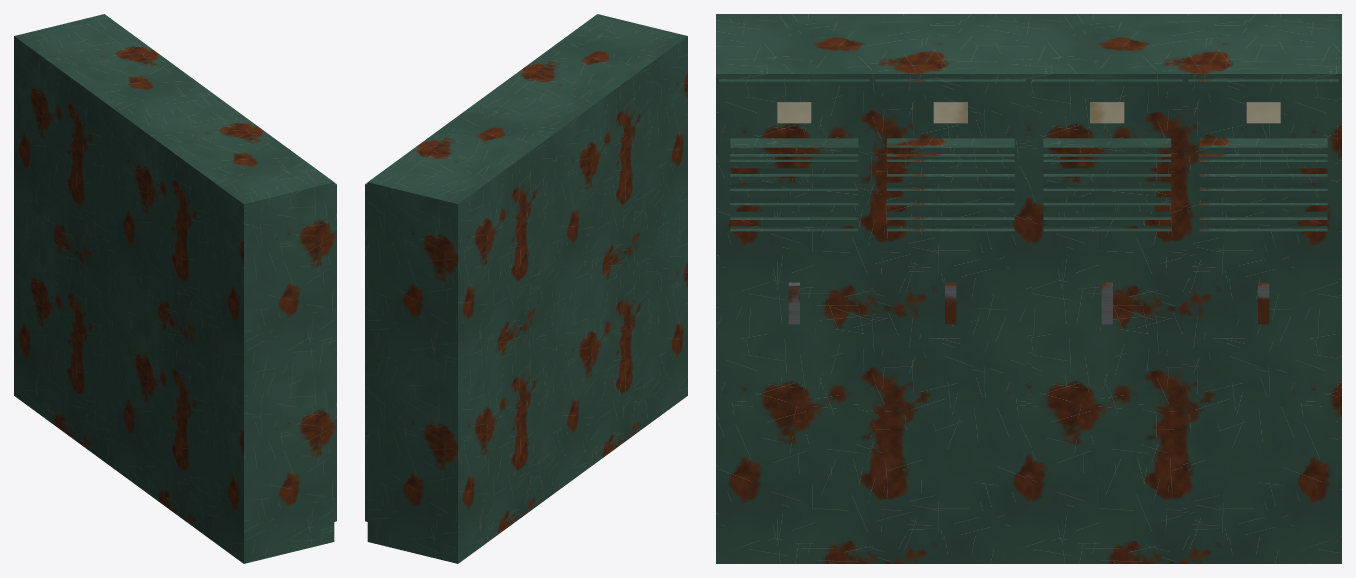
Rendered from SM_LockerRow.fbx.
The picture shows the model from 3 angles, left to right: view 1: azimuth 30°, elevation 25°; view 2: azimuth 150°, elevation 25°; view 3: azimuth 270°, elevation 25°; orthographic projection. The views are drawn at different scales.
Parts seen in each view (by area): view 1: SM_LockerRow; view 2: SM_LockerRow; view 3: SM_LockerRow.
Boxes of the visible parts, bbox=[...] form: SM_LockerRow: bbox=[14, 14, 336, 563]; SM_LockerRow: bbox=[365, 14, 687, 563]; SM_LockerRow: bbox=[716, 14, 1341, 563].
Size of what is drawn, in the model's own units: 0.545 by 1.9 by 2.2.
Materials: 3 (3 with a texture image).
